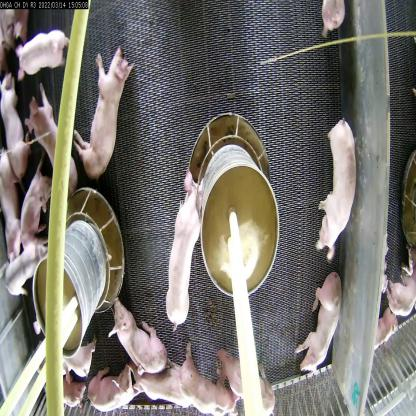Pig: (75, 40, 138, 200), (155, 174, 207, 324), (311, 117, 361, 266), (296, 265, 345, 381), (8, 21, 69, 88), (112, 298, 164, 375), (0, 228, 49, 304), (133, 346, 183, 415), (26, 100, 70, 172), (223, 348, 270, 415), (0, 82, 33, 172), (12, 174, 52, 247), (90, 350, 134, 416), (179, 363, 227, 416), (0, 163, 20, 243)
